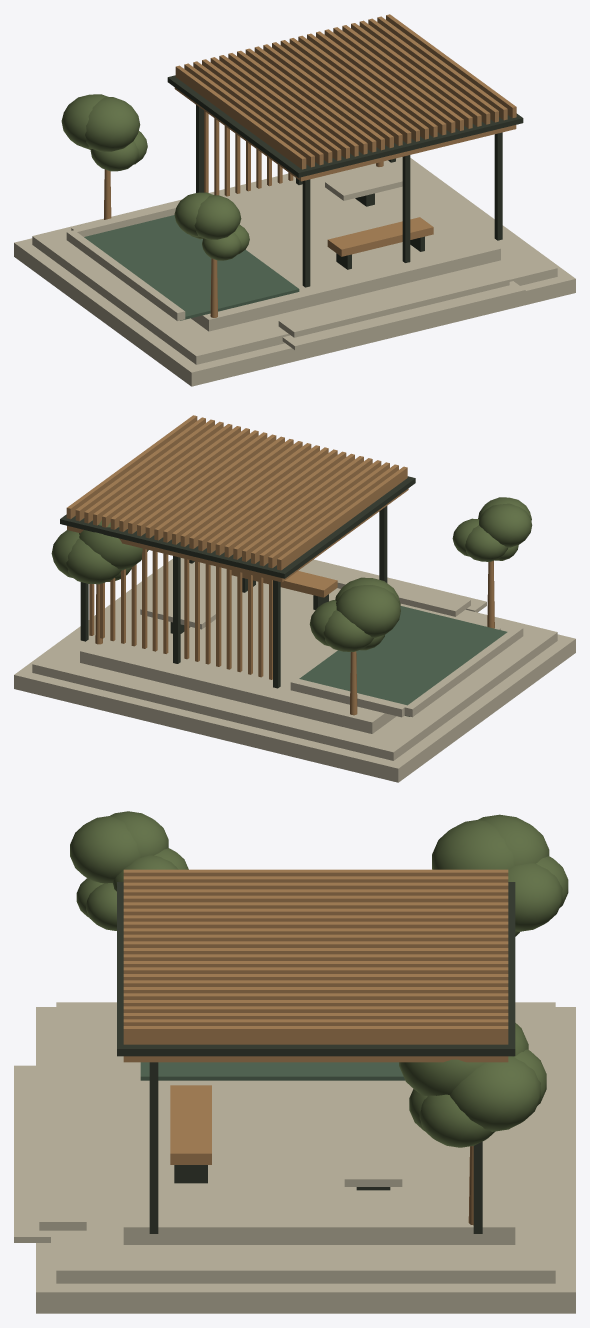
The model's file is pavilion.glb.
3 views of the same model, one above another, from view 1: azimuth 30°, elevation 25°; view 2: azimuth 150°, elevation 25°; view 3: azimuth 270°, elevation 25° (orthographic). The views are drawn at different scales.
Visible parts, largest first — view 1: Zwischenraum-original-pavilion; view 2: Zwischenraum-original-pavilion; view 3: Zwischenraum-original-pavilion.
Part boxes in pixels (x1,y1,x2,y2): Zwischenraum-original-pavilion: [14, 14, 575, 386]; Zwischenraum-original-pavilion: [14, 415, 575, 782]; Zwischenraum-original-pavilion: [14, 811, 575, 1313].
Bounding box in the file's own units: 10 × 4.28 × 8.33.
